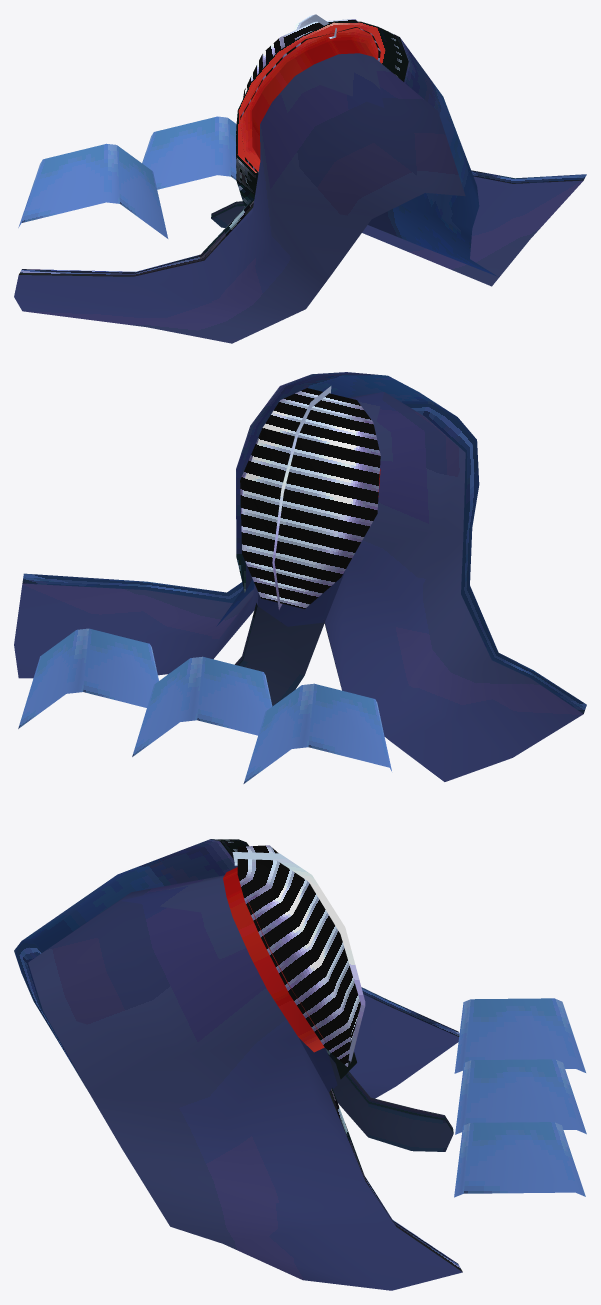
File: ps2_save-icons_typingshinkenshoubumusashinoken.glb
3 renders of one model, top to bottom at view 1: azimuth 30°, elevation 25°; view 2: azimuth 150°, elevation 25°; view 3: azimuth 270°, elevation 25°, orthographic. The views are drawn at different scales.
Parts seen in each view (by area): view 1: icon00.ico; view 2: icon00.ico; view 3: icon00.ico.
Part boxes in pixels (x1,y1,x2,y2): icon00.ico: (14, 14, 586, 343); icon00.ico: (14, 372, 586, 783); icon00.ico: (14, 839, 586, 1290).
Bounding box in the file's own units: 4.71 × 2.23 × 3.69.
1 material, 1 textured.
